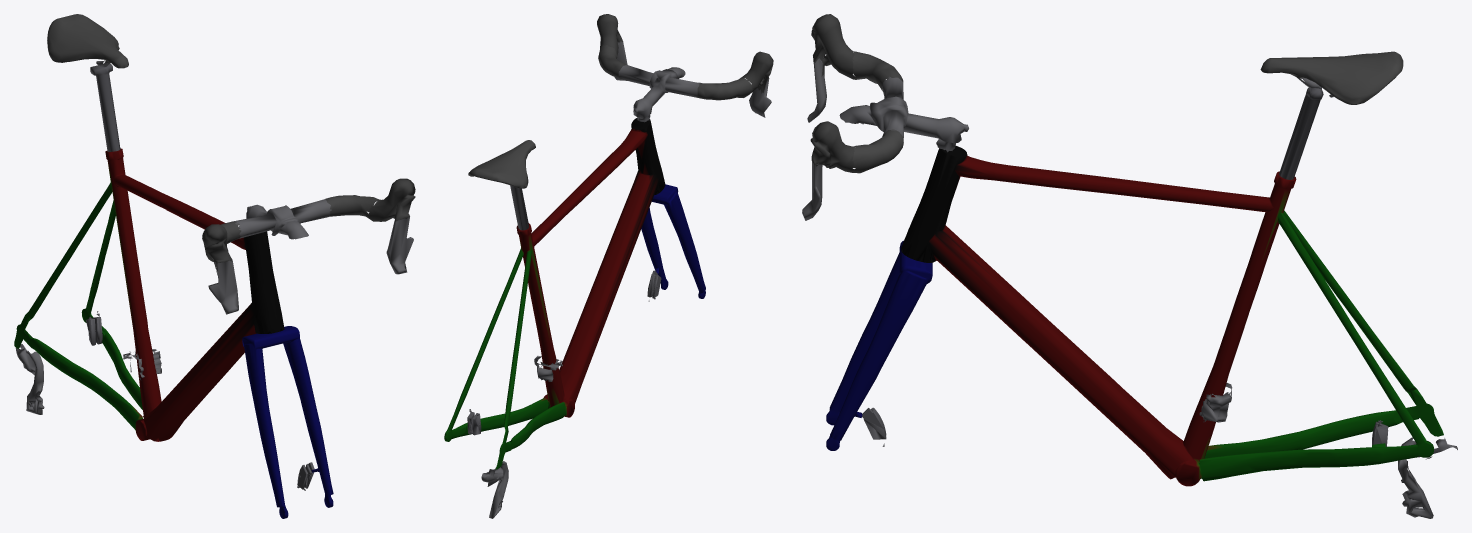
File: look785xl_lod2.glb
The picture shows the model from 3 angles, left to right: view 1: azimuth 30°, elevation 25°; view 2: azimuth 150°, elevation 25°; view 3: azimuth 270°, elevation 25°; orthographic projection. The views are drawn at different scales.
Visible parts, largest first — view 1: frame, cockpit, fork, saddle, seatpost; view 2: frame, cockpit, fork, saddle, seatpost; view 3: frame, cockpit, fork, saddle, seatpost.
Part boxes in pixels (bbox=[...]): frame: bbox=[14, 148, 284, 441]; cockpit: bbox=[202, 178, 415, 314]; fork: bbox=[242, 326, 333, 518]; saddle: bbox=[47, 14, 128, 68]; seatpost: bbox=[90, 63, 120, 151]; frame: bbox=[444, 118, 665, 518]; cockpit: bbox=[597, 14, 773, 122]; fork: bbox=[641, 184, 705, 298]; saddle: bbox=[468, 140, 535, 188]; seatpost: bbox=[510, 185, 529, 230]; frame: bbox=[901, 146, 1457, 518]; cockpit: bbox=[802, 14, 968, 220]; fork: bbox=[826, 240, 932, 450]; saddle: bbox=[1260, 51, 1403, 104]; seatpost: bbox=[1279, 86, 1323, 179].
Bounding box in the file's own units: 0.4944 × 0.9017 × 1.13.
